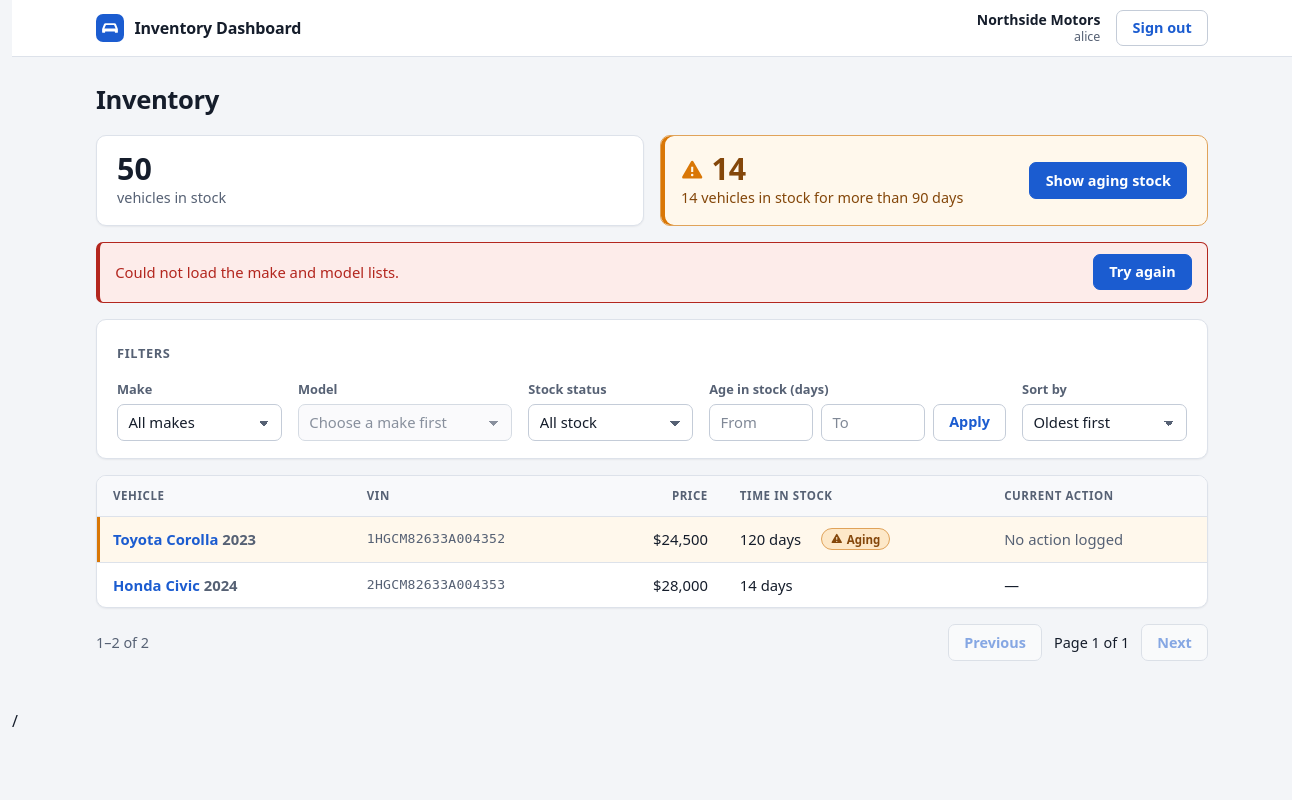
when the filters or lists cannot be loaded › says when the make and model lists fail, and recovers on retry
Check: the message shows "Could not load the make and model lists.", box [115,262,399,282]
Click the button "Try again": (1142, 272) [1093,254,1192,290]
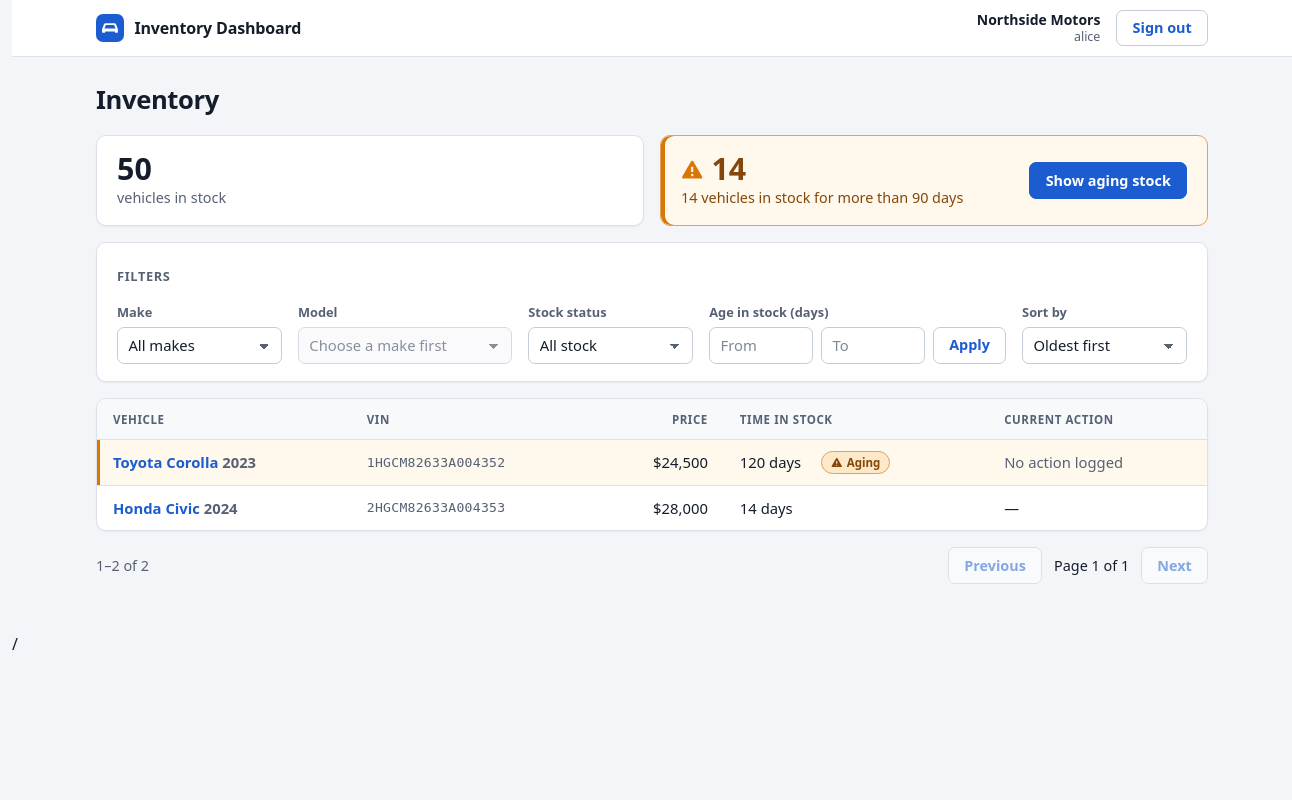
Check: the text "Could not load the make and model lists." is gone
